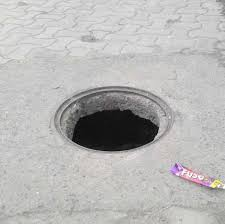Manhole-Open: (51, 83, 176, 154)
